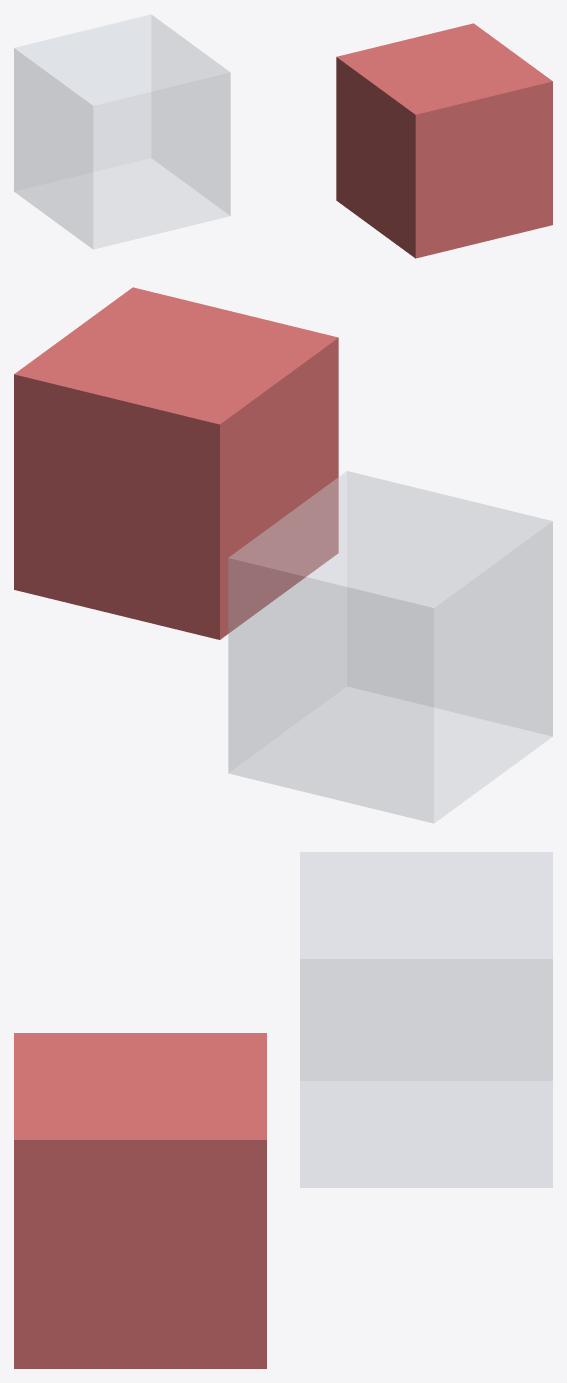
3 views of the same model, one above another, from view 1: azimuth 30°, elevation 25°; view 2: azimuth 150°, elevation 25°; view 3: azimuth 270°, elevation 25° (orthographic). The views are drawn at different scales.
Parts seen in each view (by area): view 1: Cube, Cube.001; view 2: Cube, Cube.001; view 3: Cube, Cube.001.
Part boxes in pixels (left/top/right/bottom): Cube: left=336, top=23, right=552, bottom=258; Cube.001: left=14, top=14, right=230, bottom=249; Cube: left=14, top=287, right=338, bottom=639; Cube.001: left=228, top=471, right=552, bottom=823; Cube: left=14, top=1033, right=266, bottom=1368; Cube.001: left=300, top=852, right=552, bottom=1187.
Size of the model in its own units: 5.39 by 2 by 4.26.
